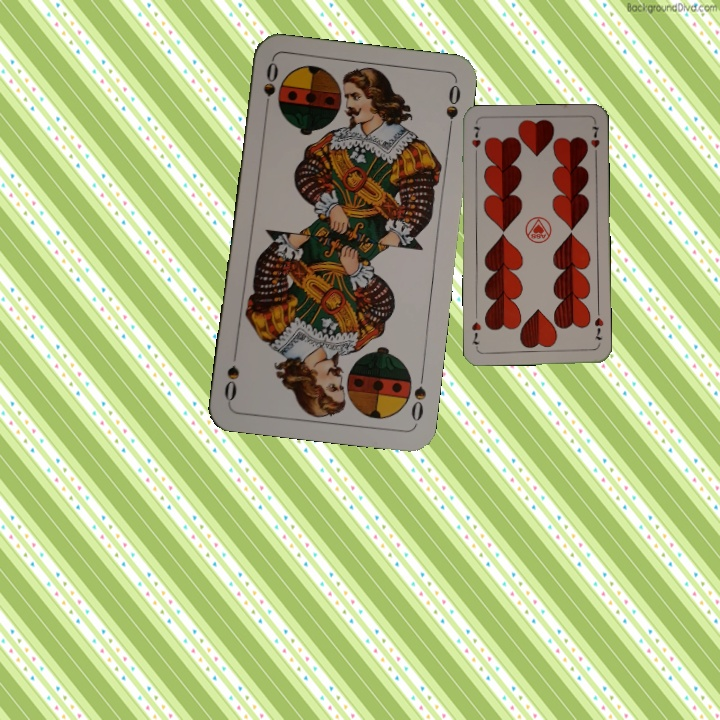H7: (467, 122, 483, 161), (590, 314, 606, 342)
SO: (407, 367, 429, 424), (260, 58, 281, 117)
